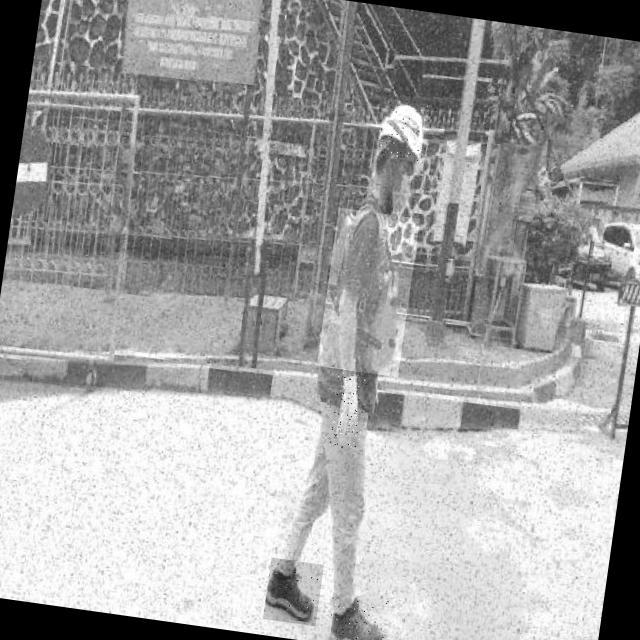Gloves: (328, 369, 369, 445)
Helmet: (376, 99, 430, 163)
Person: (244, 59, 452, 640)
Safety Boot: (264, 558, 326, 627), (326, 592, 391, 640)
Safety Vest: (317, 208, 420, 378)
